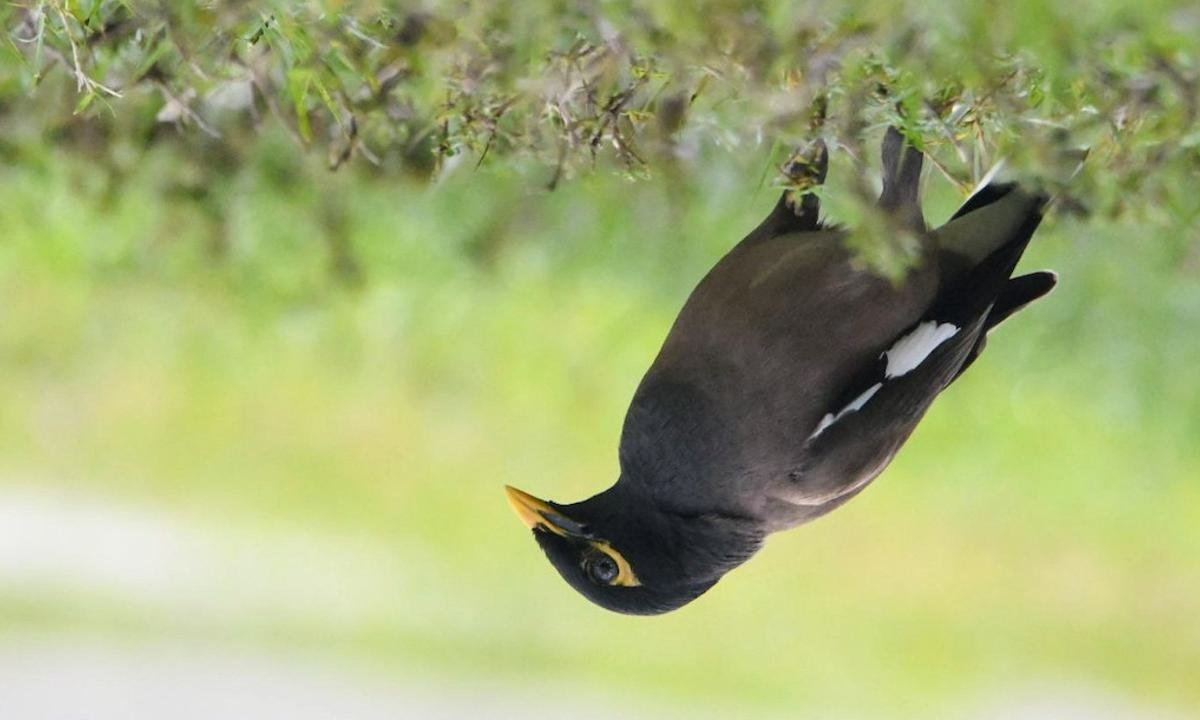myna: (489, 90, 1070, 632)
